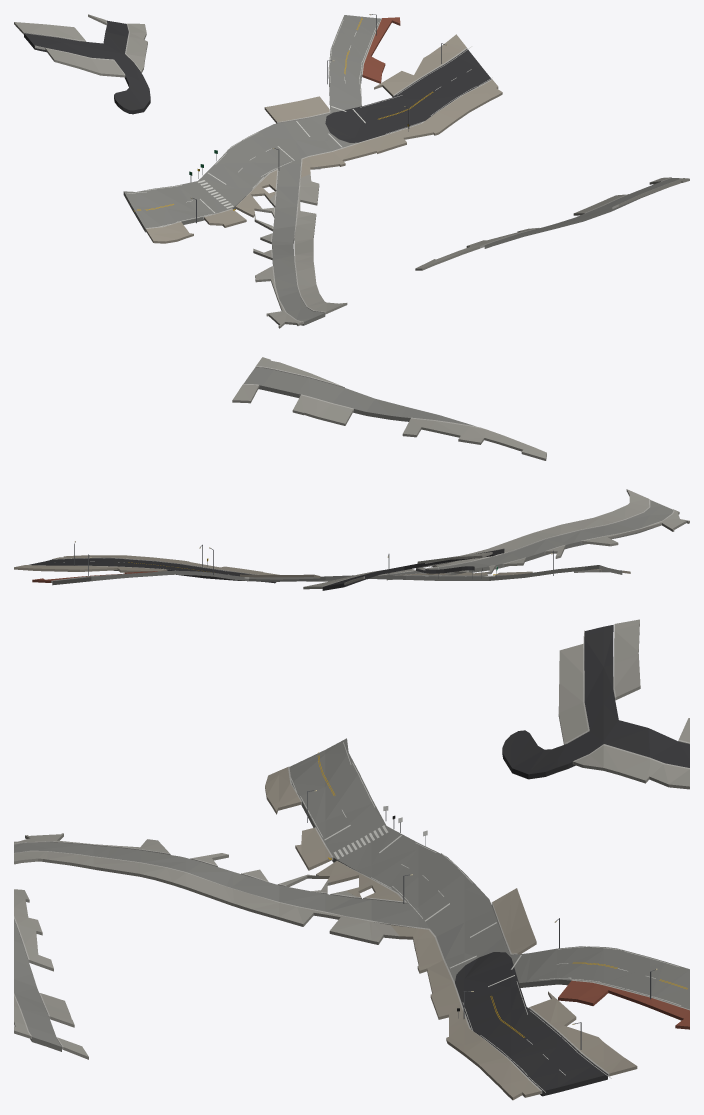
The picture shows the model from 3 angles, top to bottom: view 1: azimuth 30°, elevation 25°; view 2: azimuth 150°, elevation 25°; view 3: azimuth 270°, elevation 25°; orthographic projection. The views are drawn at different scales.
Size of the model in its own units: 149 by 46.59 by 146.
